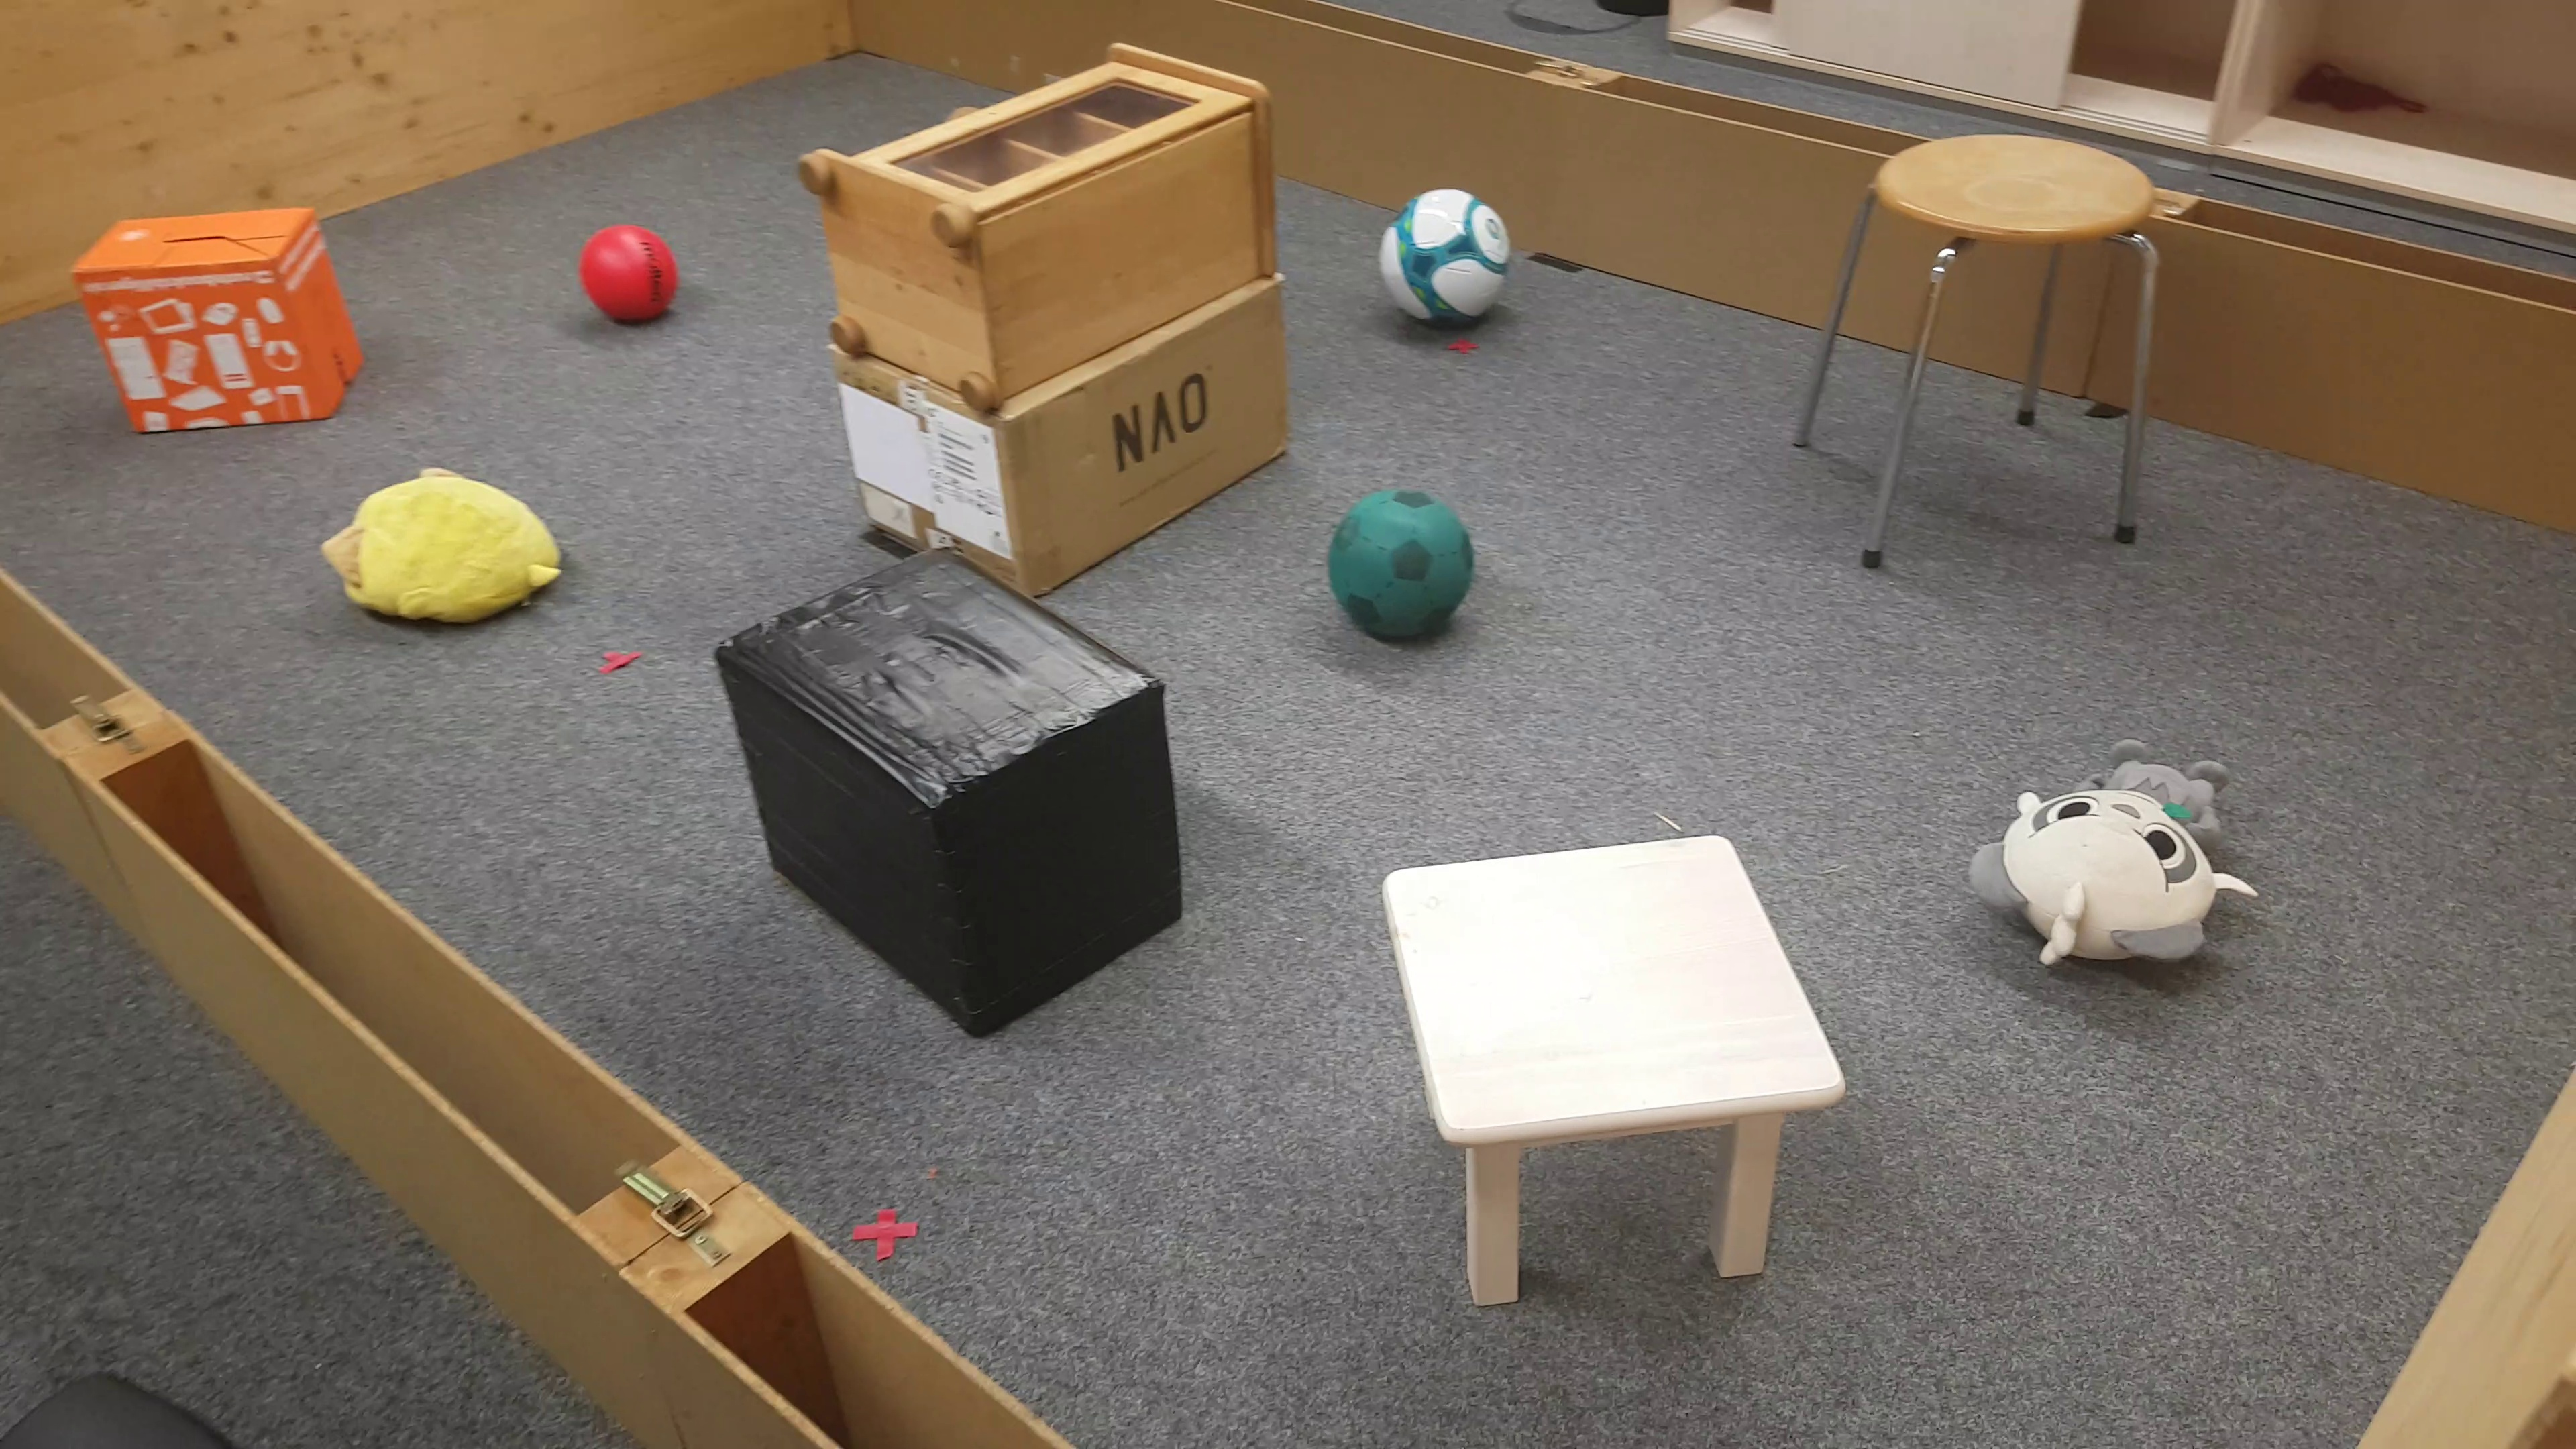grasp: (1985, 732, 2249, 982), (320, 469, 559, 637)
kick: (1329, 479, 1477, 655), (1382, 186, 1522, 345), (577, 214, 681, 322)
push: (717, 548, 1194, 1030), (69, 205, 370, 432)
